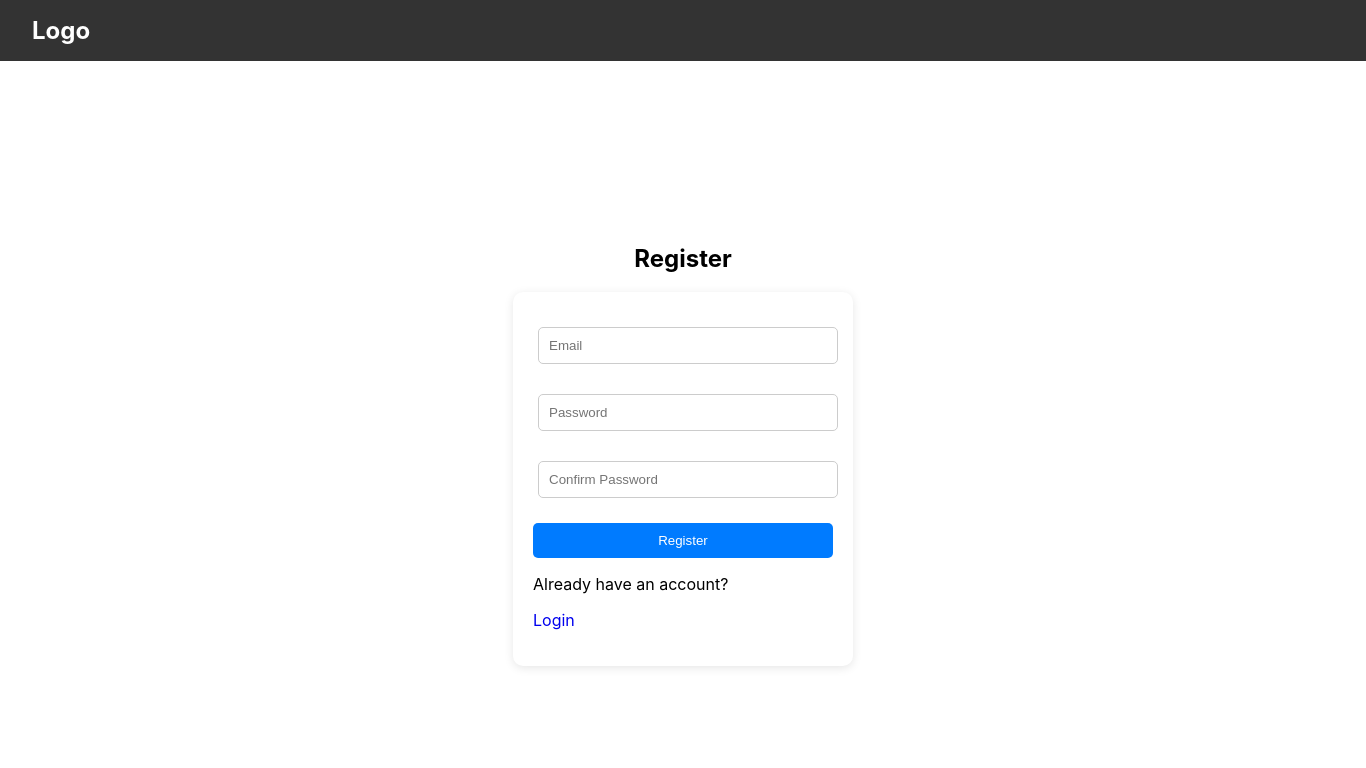
Test: Register › shows error messages on invalid submit in register process
Click the button "Register" at (683,541), box [533,523,833,558]
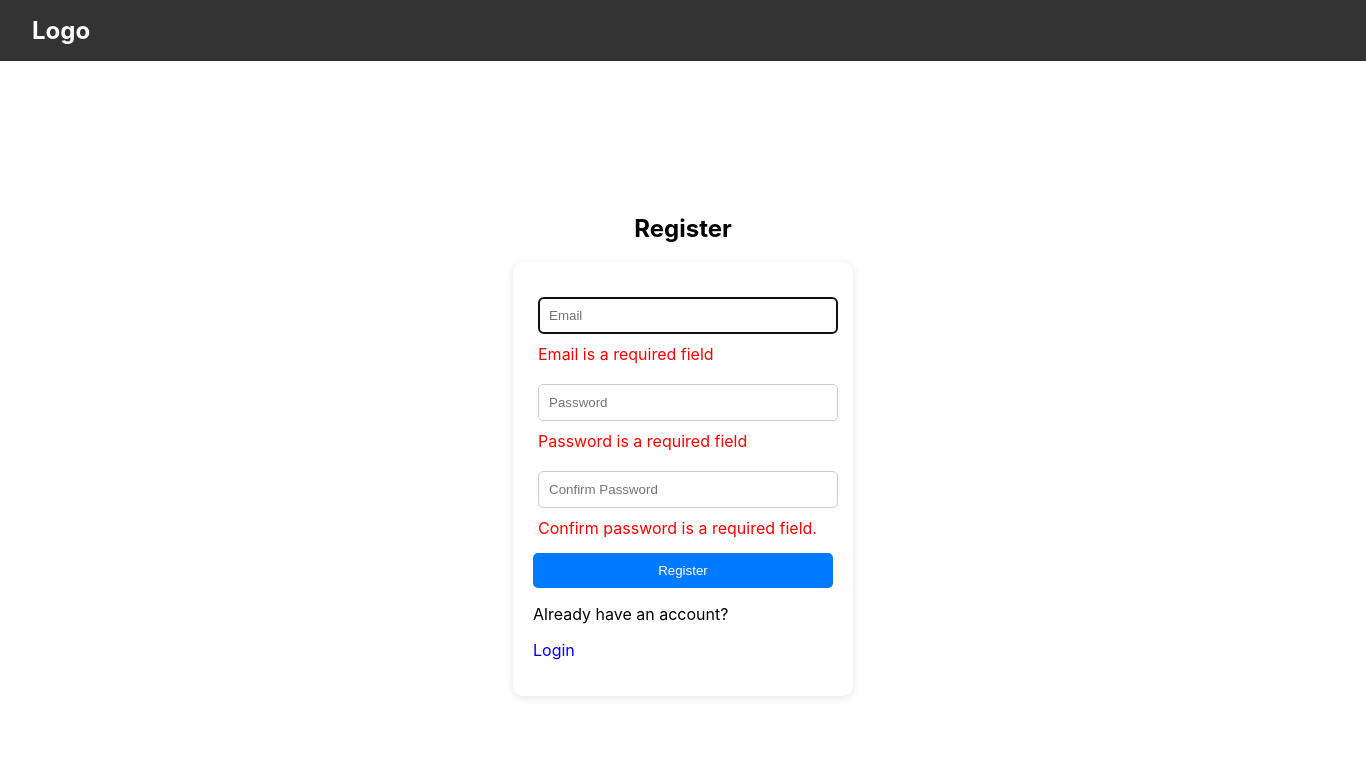
Now the text "Email is a required field" is shown, box [538,344,714,364]
Now the text "Password is a required field" is shown, box [538,431,747,451]
Now the text "Confirm password is a required field." is shown, box [538,518,838,538]
